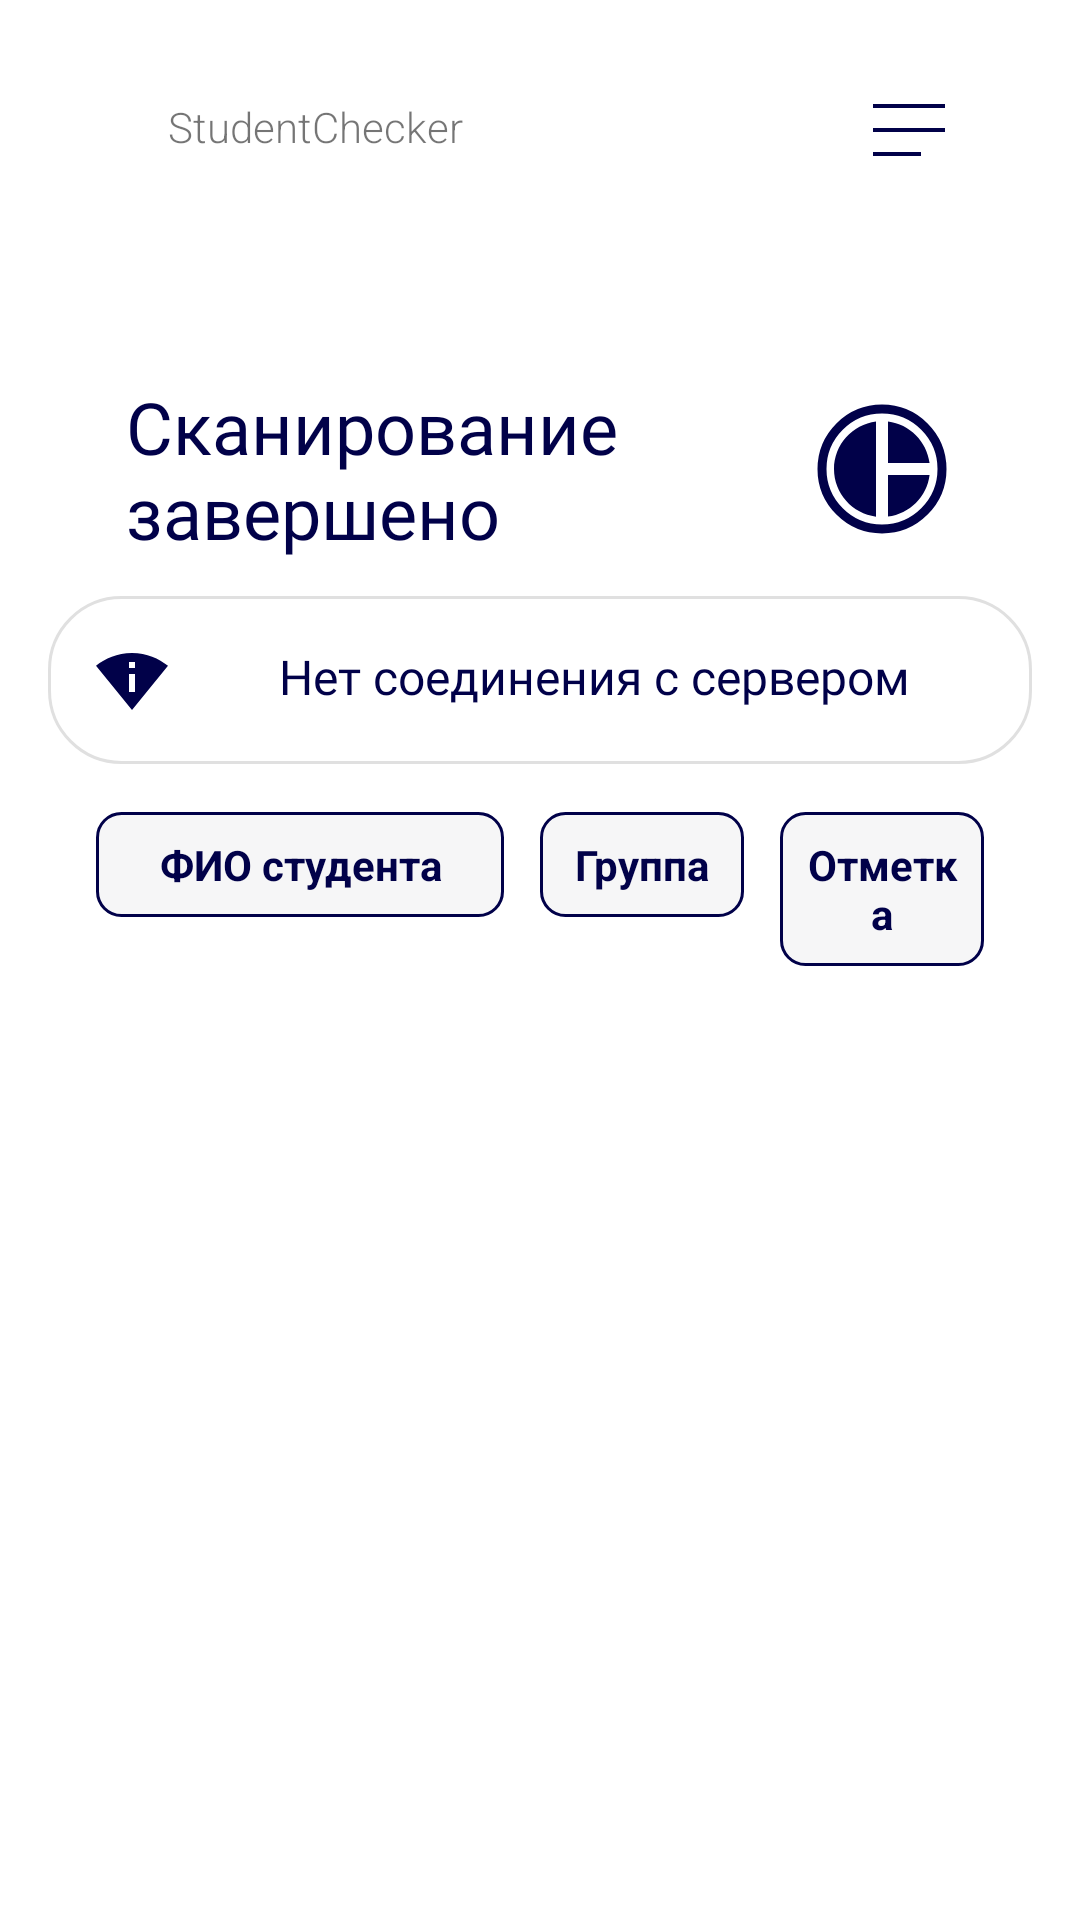

Named icons in this screenshot (1080 x 1920) and their centers, point (x, y):
Открыть меню: point (909, 130)
